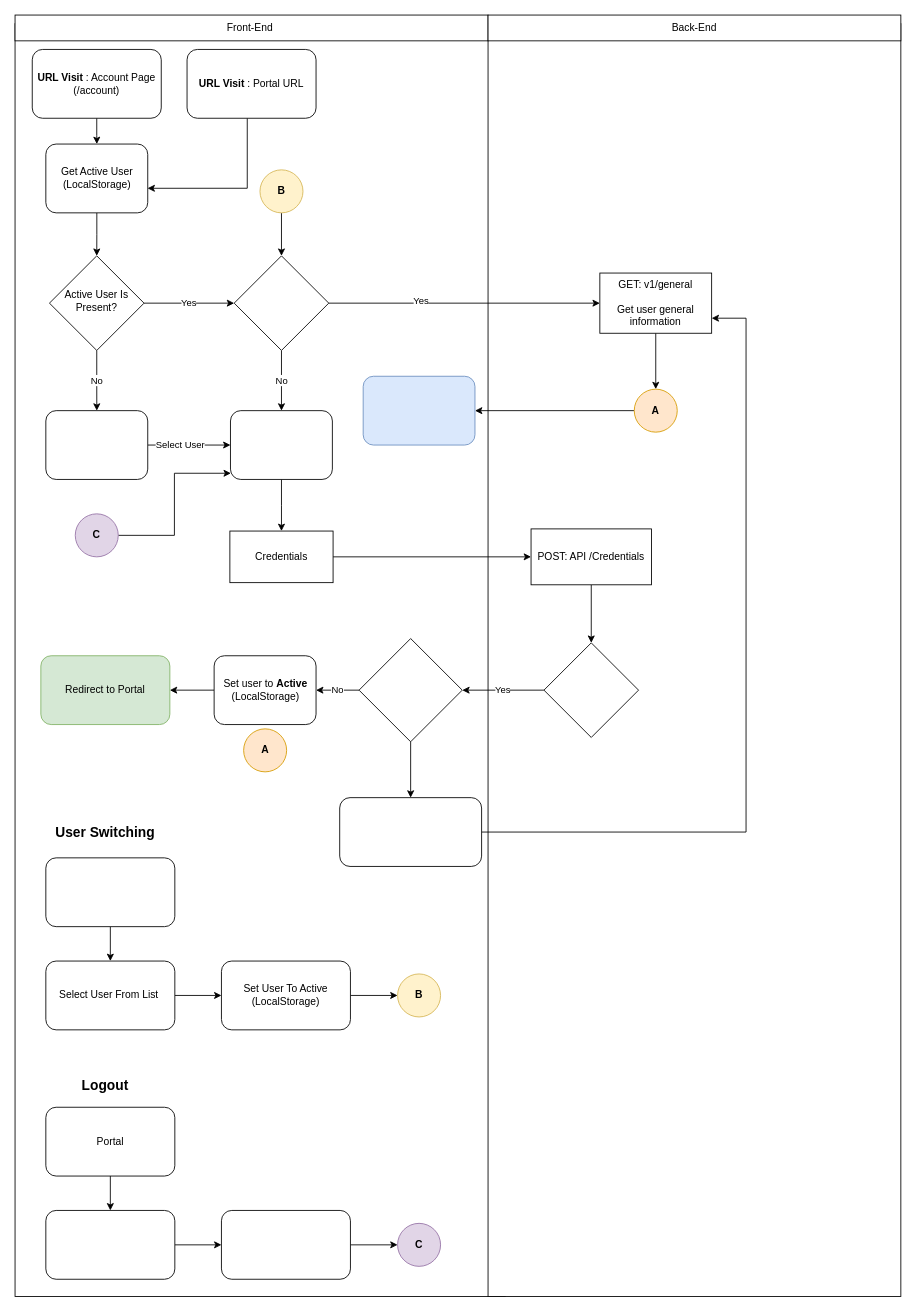
Some shapes in this 916 by 1312 pixel diagram are drawn without their labels. The shapes that lost their labels are listed below. From the top down, each one's centre as x and y in pixels, then its label:
At (x=281, y=302): "Active User has Valid Session?".
At (x=418, y=410): "Display User Details (Redirect to Account Page)".
At (x=96, y=444): "Redirect To Select Tenant (aab-fe)".
At (x=281, y=444): "Redirect To Tenant Login Page (aab-fe)".
At (x=410, y=690): "Redirect URL == Account".
At (x=591, y=689): "Credentials Valid?".
At (x=410, y=831): "Redirect to /account?tenantShortname=shortName".
At (x=110, y=892): "Account Page".
At (x=110, y=1244): "Logout Active User".
At (x=285, y=1244): "Remove from session list (LocalStorage)".
